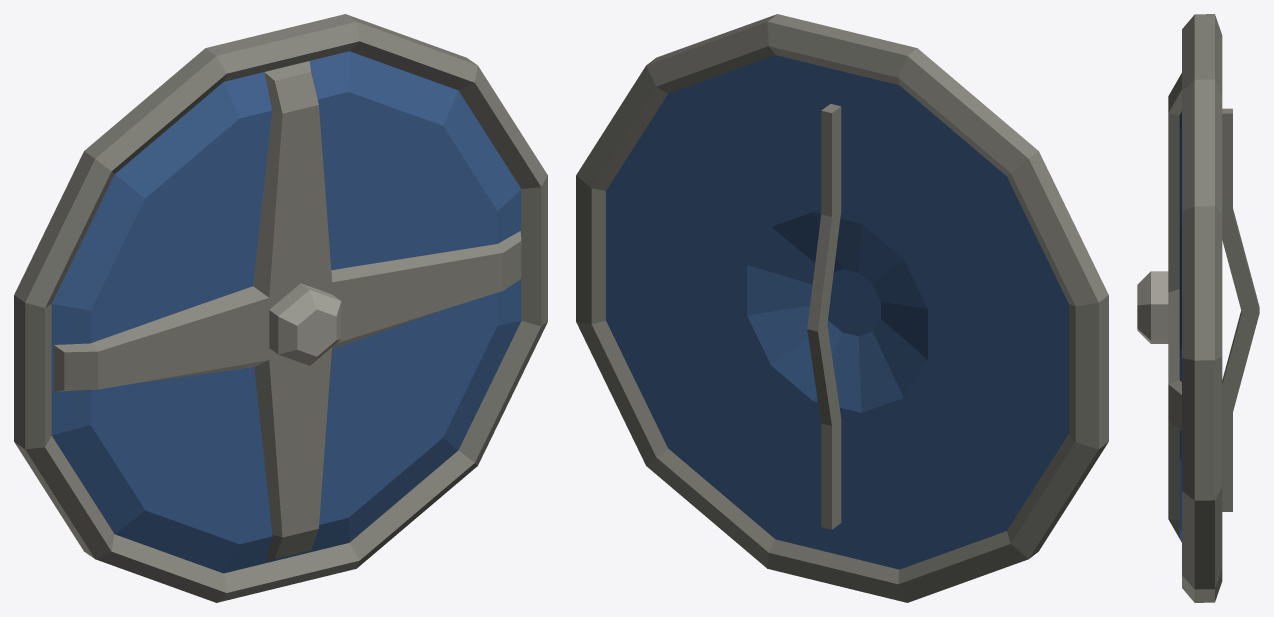
Rendered from SM_pwe_gauls_shield_06.fbx.
The picture shows the model from 3 angles, left to right: view 1: azimuth 30°, elevation 25°; view 2: azimuth 150°, elevation 25°; view 3: azimuth 270°, elevation 25°; orthographic projection. The views are drawn at different scales.
Visible parts, largest first — view 1: SM_pwe_gauls_shield_06; view 2: SM_pwe_gauls_shield_06; view 3: SM_pwe_gauls_shield_06.
Boxes of the visible parts, x1=… form: SM_pwe_gauls_shield_06: x1=14, y1=14, x2=547, y2=602; SM_pwe_gauls_shield_06: x1=576, y1=14, x2=1108, y2=602; SM_pwe_gauls_shield_06: x1=1137, y1=14, x2=1259, y2=602.
Size of the model in its own units: 67.69 by 67.63 by 14.36.
